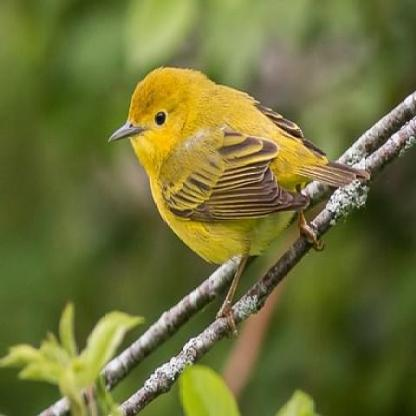other: (92, 36, 361, 297)
